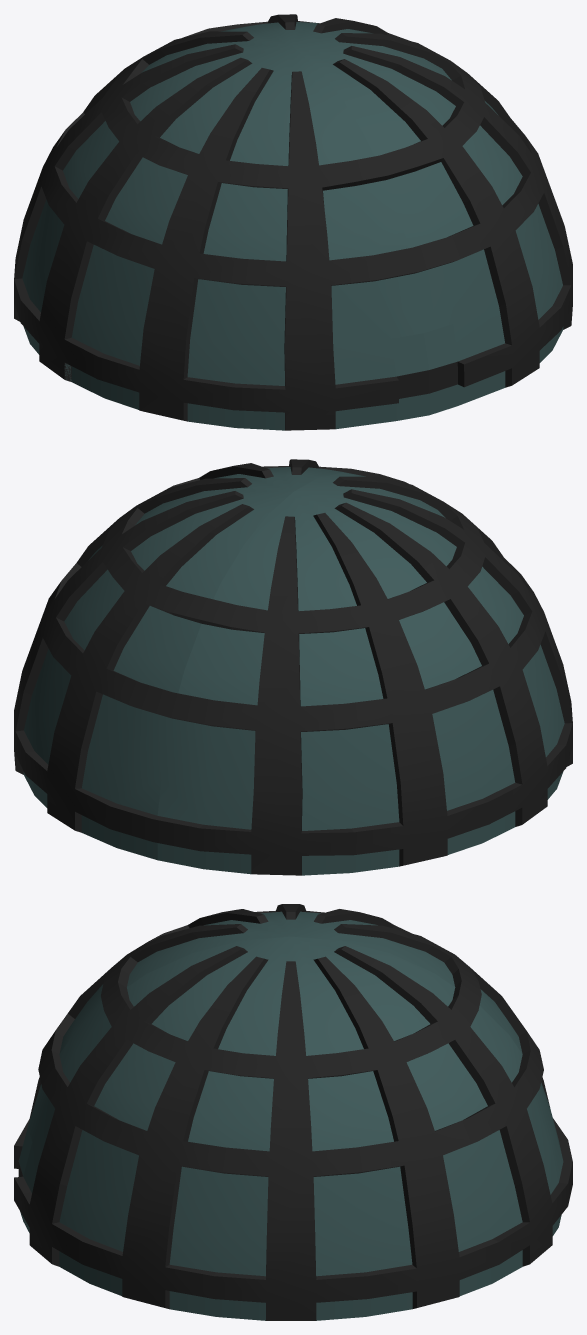
File: NO_Door_Biome 1.fbx
3 views of the same model, one above another, from view 1: azimuth 30°, elevation 25°; view 2: azimuth 150°, elevation 25°; view 3: azimuth 270°, elevation 25° (orthographic).
Parts seen in each view (by area): view 1: Biodome_Framing_ND, Biodome_Windows_ND; view 2: Biodome_Framing_ND, Biodome_Windows_ND; view 3: Biodome_Framing_ND, Biodome_Windows_ND.
Boxes of the visible parts, x1,y1,x2,y2 form: Biodome_Framing_ND: (14,14,572,430); Biodome_Windows_ND: (22,22,563,430); Biodome_Framing_ND: (14,459,572,875); Biodome_Windows_ND: (23,467,564,875); Biodome_Framing_ND: (14,904,572,1320); Biodome_Windows_ND: (19,911,563,1320).
Size of the model in its own units: 3640 by 1937 by 3639.
